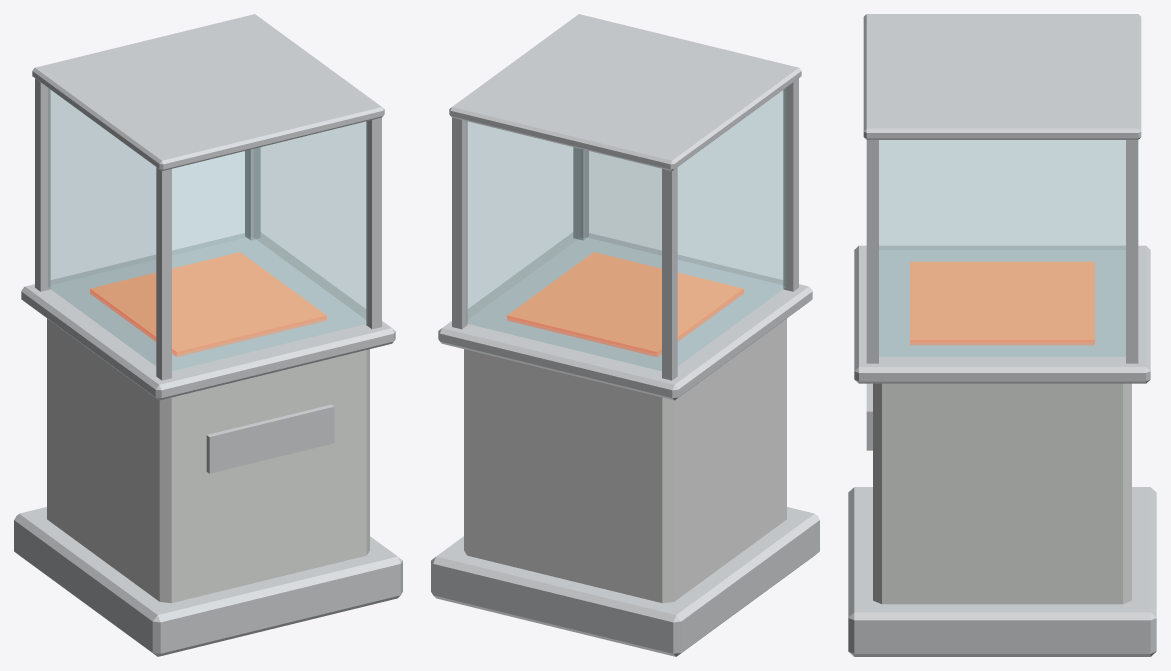
Rendered from lt_trophy_hs.glb.
3 renders of one model, left to right at view 1: azimuth 30°, elevation 25°; view 2: azimuth 150°, elevation 25°; view 3: azimuth 270°, elevation 25°, orthographic. The views are drawn at different scales.
Parts seen in each view (by area): view 1: lt_trophy_hs; view 2: lt_trophy_hs; view 3: lt_trophy_hs.
Boxes of the visible parts, bbox=[...] form: lt_trophy_hs: bbox=[14, 14, 402, 656]; lt_trophy_hs: bbox=[431, 14, 819, 656]; lt_trophy_hs: bbox=[848, 14, 1156, 656].
Bounding box in the file's own units: 1 × 1.87 × 1.
